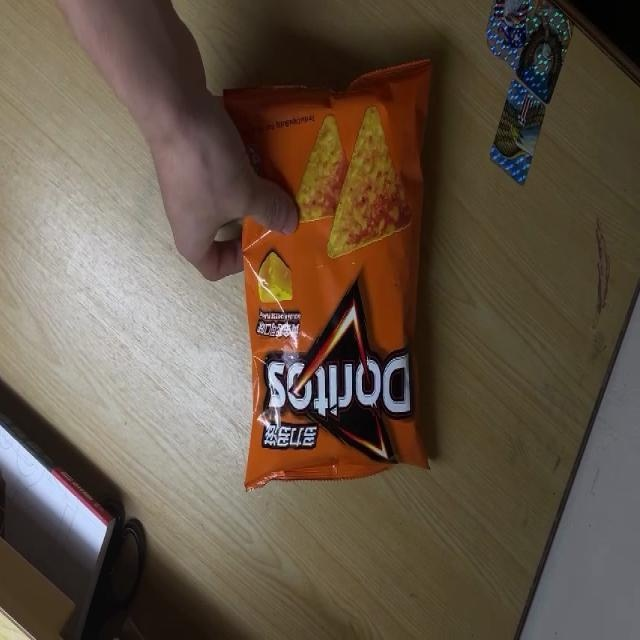Doritos: (219, 50, 436, 495)
